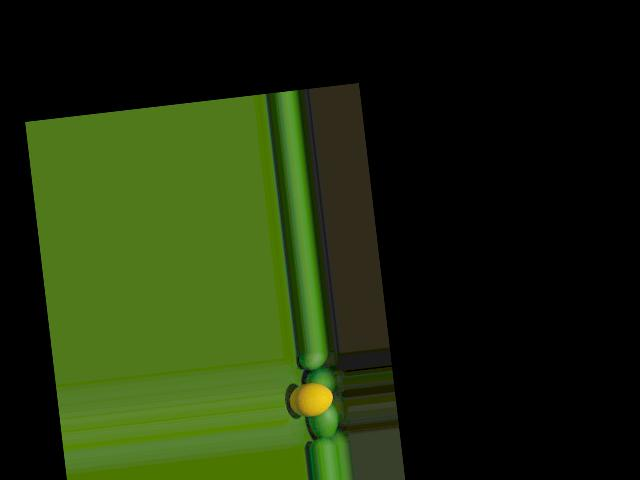egg: (287, 381, 334, 419)
